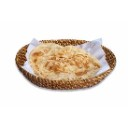parota: (29, 43, 102, 79)
